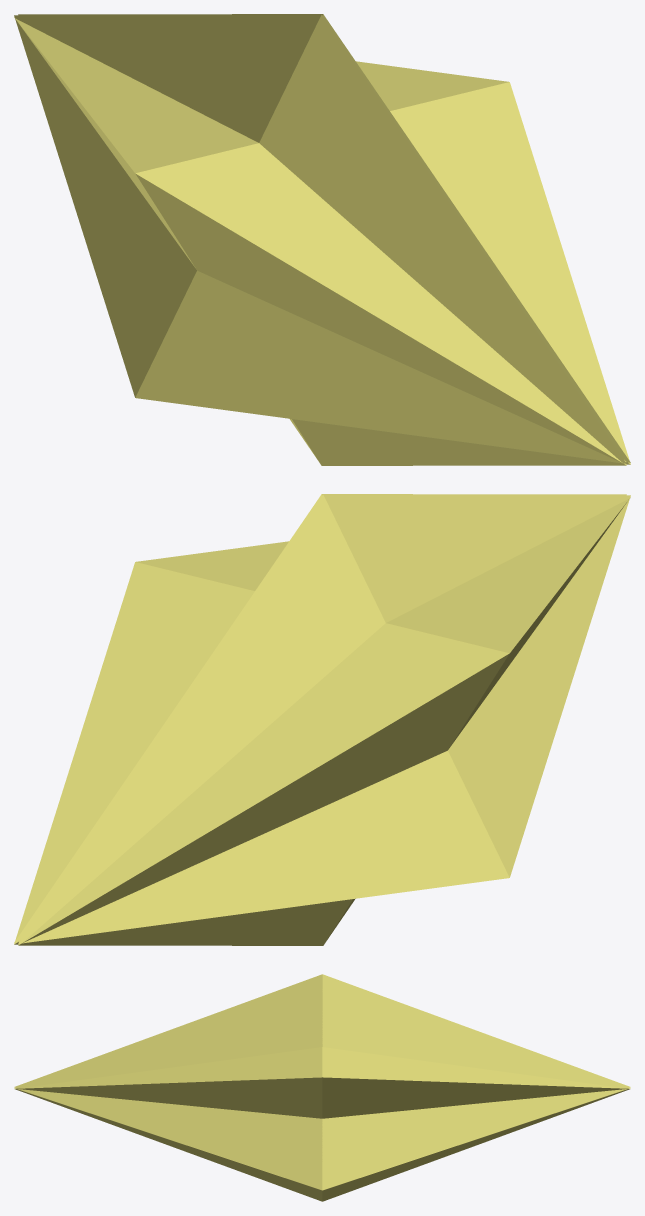
Rendered from diamond_bullet.fbx.
3 views of the same model, one above another, from view 1: azimuth 30°, elevation 25°; view 2: azimuth 150°, elevation 25°; view 3: azimuth 270°, elevation 25° (orthographic). The views are drawn at different scales.
Visible parts, largest first — view 1: Cone; view 2: Cone; view 3: Cone.
Boxes of the visible parts, box(x1,y1,x2,y2) form: Cone: box(14, 14, 630, 465); Cone: box(14, 494, 630, 945); Cone: box(14, 974, 630, 1201).
Bounding box in the file's own units: 15.62 × 17.98 × 44.25.
